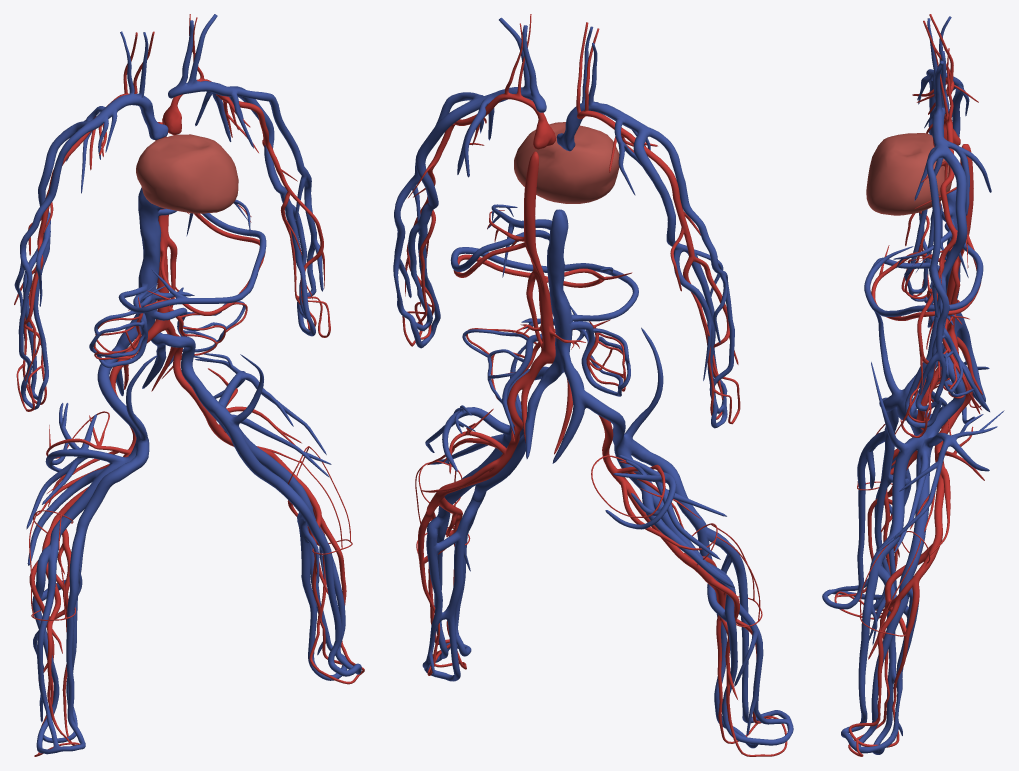
File: pediatric_neonate_female.cardiovascular.LOD0.glb
3 renders of one model, left to right at view 1: azimuth 30°, elevation 25°; view 2: azimuth 150°, elevation 25°; view 3: azimuth 270°, elevation 25°, orthographic. The views are drawn at different scales.
Parts seen in each view (by area): view 1: PEDIATRIC.NEONATE.FEMALE.CARDIOVASCULAR.BLOOD_IN_LARGE_VEINS, PEDIATRIC.NEONATE.FEMALE.CARDIOVASCULAR.BLOOD_IN_LARGE_ARTER, PEDIATRIC.NEONATE.FEMALE.CARDIOVASCULAR.HEART_WALL; view 2: PEDIATRIC.NEONATE.FEMALE.CARDIOVASCULAR.BLOOD_IN_LARGE_VEINS, PEDIATRIC.NEONATE.FEMALE.CARDIOVASCULAR.BLOOD_IN_LARGE_ARTER, PEDIATRIC.NEONATE.FEMALE.CARDIOVASCULAR.HEART_WALL; view 3: PEDIATRIC.NEONATE.FEMALE.CARDIOVASCULAR.BLOOD_IN_LARGE_VEINS, PEDIATRIC.NEONATE.FEMALE.CARDIOVASCULAR.BLOOD_IN_LARGE_ARTER, PEDIATRIC.NEONATE.FEMALE.CARDIOVASCULAR.HEART_WALL.
Part boxes in pixels (box(x1,y1,x2,y2)): PEDIATRIC.NEONATE.FEMALE.CARDIOVASCULAR.BLOOD_IN_LARGE_VEINS: box(14, 14, 361, 754); PEDIATRIC.NEONATE.FEMALE.CARDIOVASCULAR.BLOOD_IN_LARGE_ARTER: box(14, 14, 364, 756); PEDIATRIC.NEONATE.FEMALE.CARDIOVASCULAR.HEART_WALL: box(136, 134, 238, 213); PEDIATRIC.NEONATE.FEMALE.CARDIOVASCULAR.BLOOD_IN_LARGE_VEINS: box(393, 17, 793, 748); PEDIATRIC.NEONATE.FEMALE.CARDIOVASCULAR.BLOOD_IN_LARGE_ARTER: box(402, 14, 787, 756); PEDIATRIC.NEONATE.FEMALE.CARDIOVASCULAR.HEART_WALL: box(514, 122, 619, 203); PEDIATRIC.NEONATE.FEMALE.CARDIOVASCULAR.BLOOD_IN_LARGE_VEINS: box(822, 16, 1004, 754); PEDIATRIC.NEONATE.FEMALE.CARDIOVASCULAR.BLOOD_IN_LARGE_ARTER: box(834, 14, 984, 756); PEDIATRIC.NEONATE.FEMALE.CARDIOVASCULAR.HEART_WALL: box(866, 133, 951, 215).
Bounding box in the file's own units: 0.1944 × 0.3763 × 0.0949.
